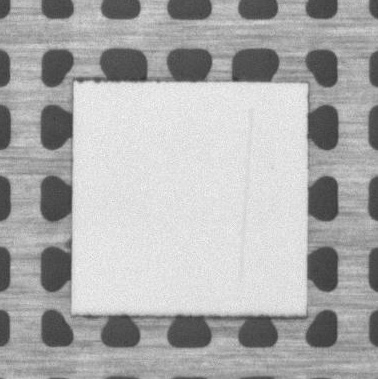DIE_CRACK: (239, 109, 251, 283)
